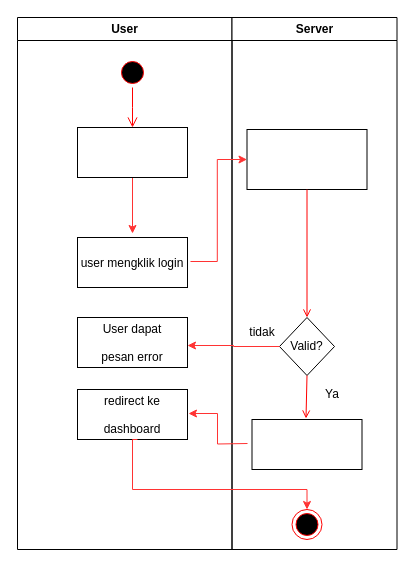
Image size: 415x567. Some labels were removed from this diagram. Each missing label, with the centre of its shape:
"membuat session" belongs at pixel 306 444.
"User memasukkan username dan password" belongs at pixel 132 152.
"Validasi login" belongs at pixel 306 159.
